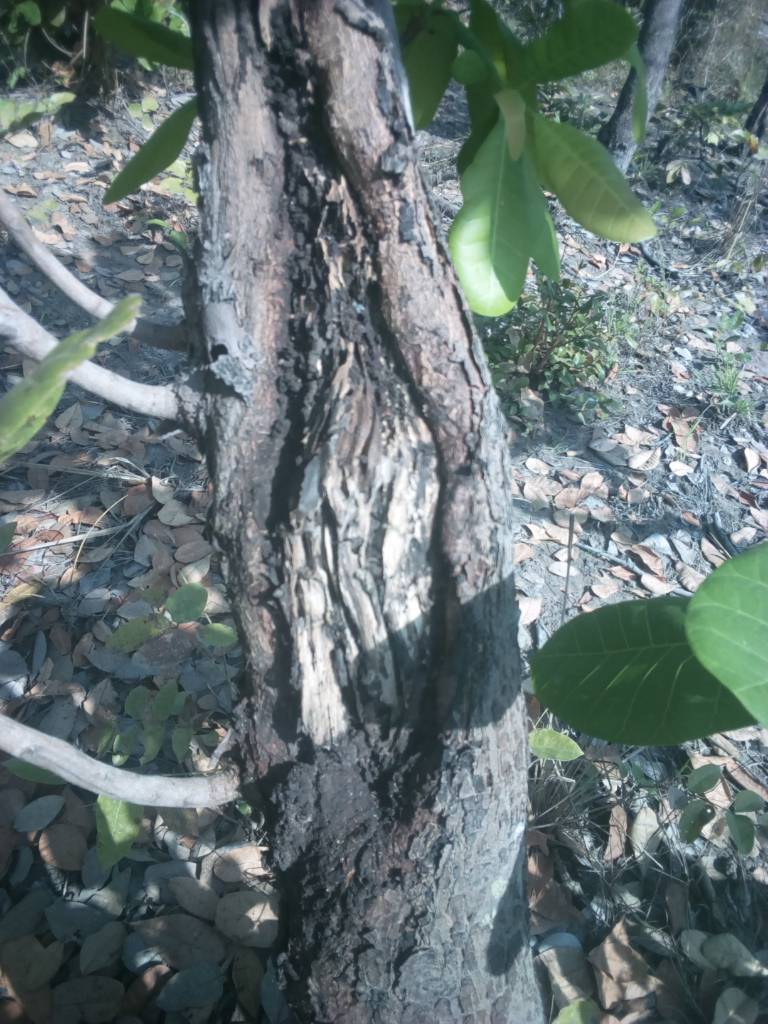Termites: (240, 35, 500, 967)
